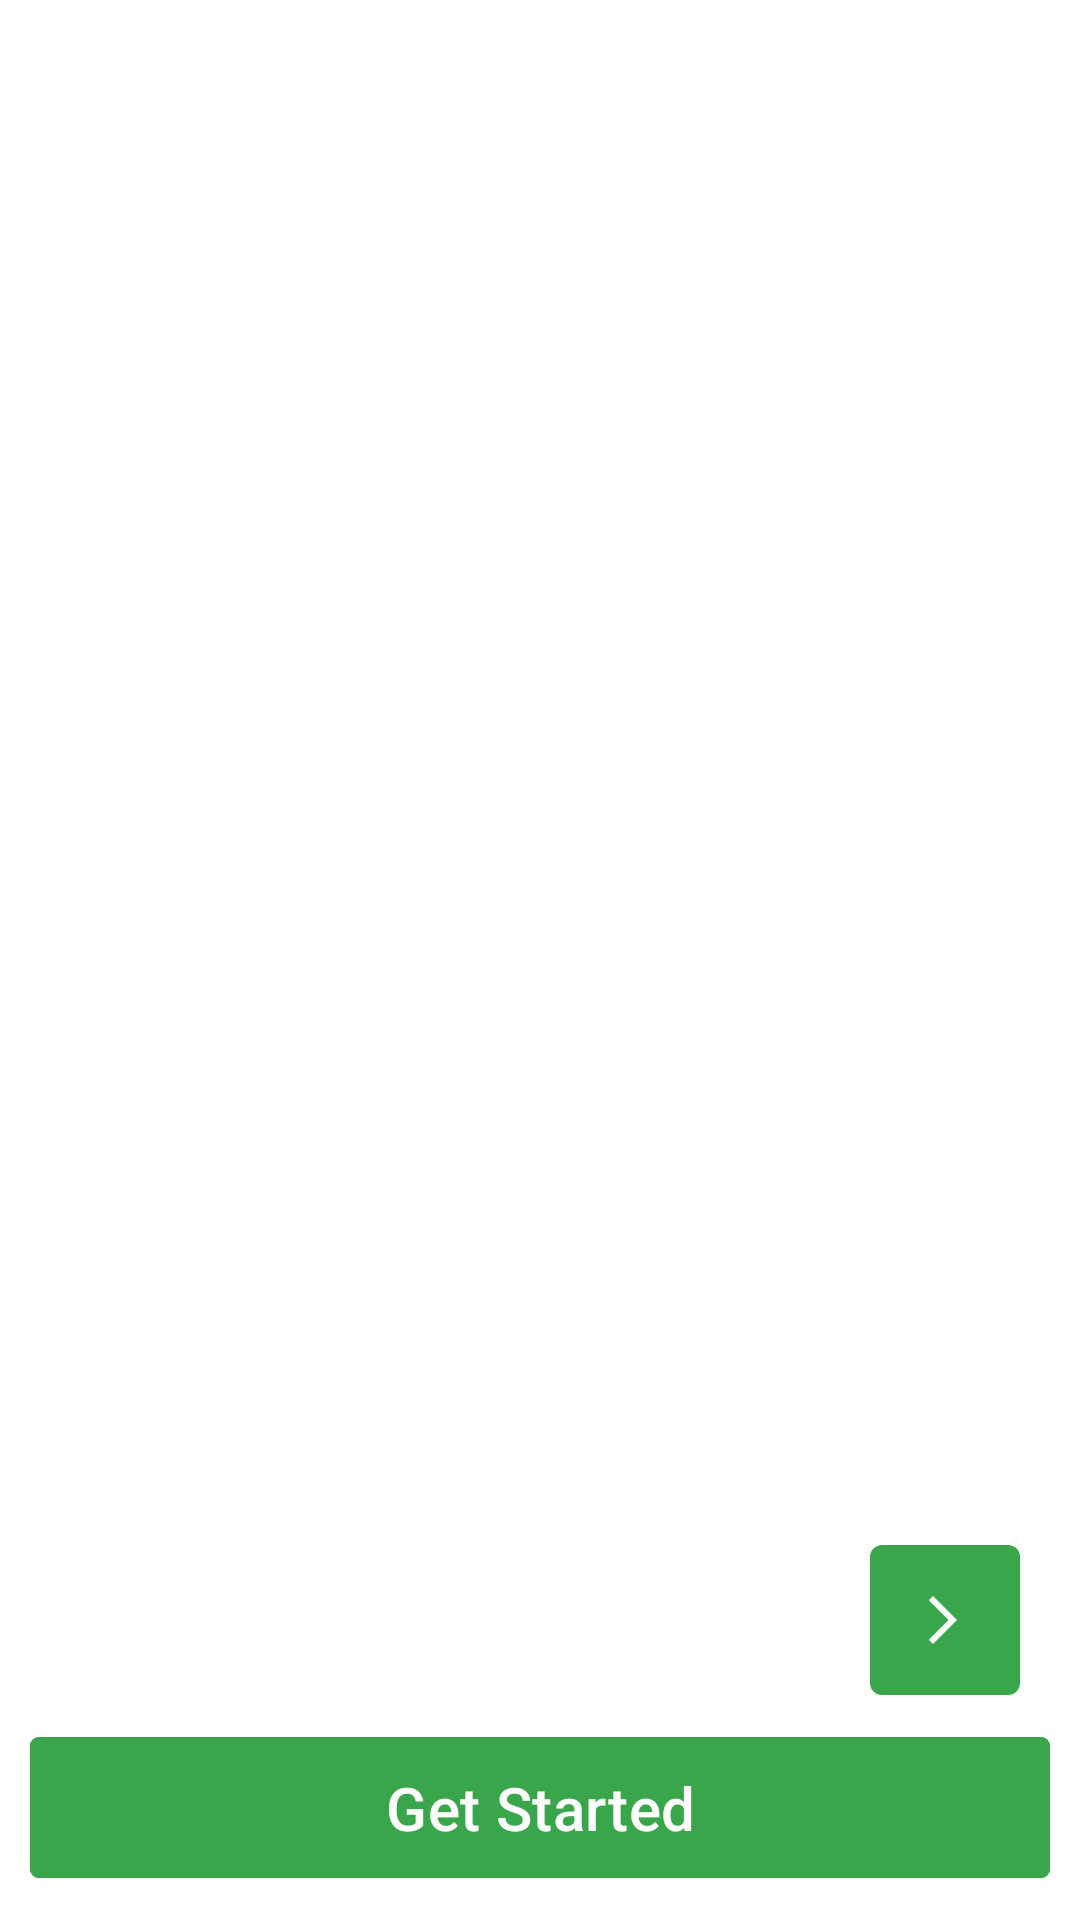

Point at icon controls on the screen. Image size 1080w x 1920h, points as [x,y].
intro forward: [945,1620]
